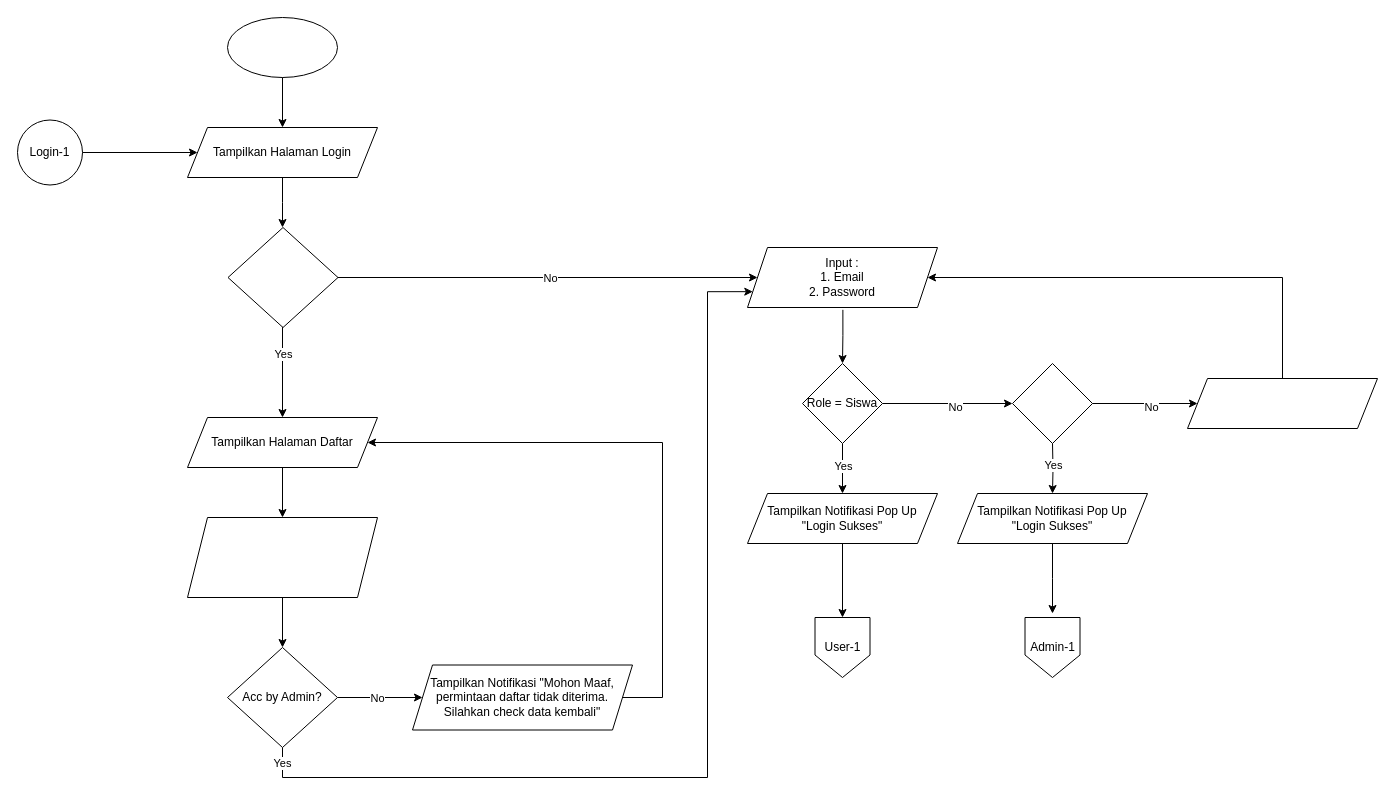
The diagram is 1395 pixels wide and 803 high, and some of its shapes have lost their labels. Here are the shapes that lost their labels. From the top down, the centre of each, then its label:
point (282, 47): Start
point (282, 277): Belum Punya Akun?
point (1052, 403): Role = Admin
point (1282, 403): Tampilkan Notifikasi Pop Up "Login Gagal"
point (282, 557): Input : 1. NIS 2. Nama 3. Kelas 4. Kata Sandi
